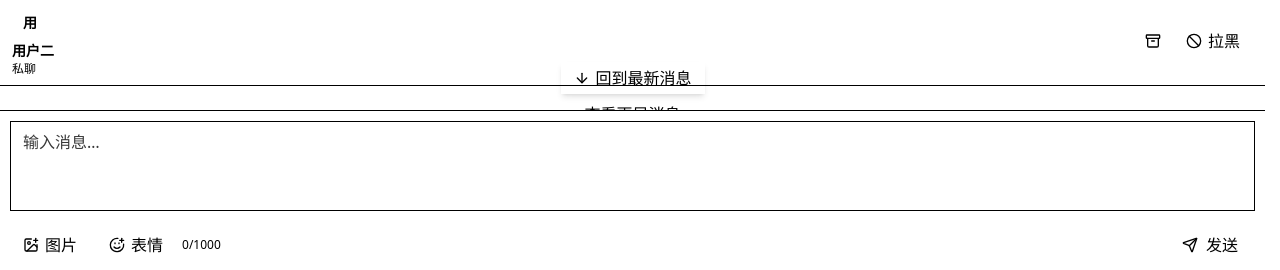
DirectConversationPanel › 离开底部时返回入口会刷新并一次定位到最新消息
(page scrolled)
Click the button "回到最新消息". click: click(632, 78)
box: [560,62,704,94]
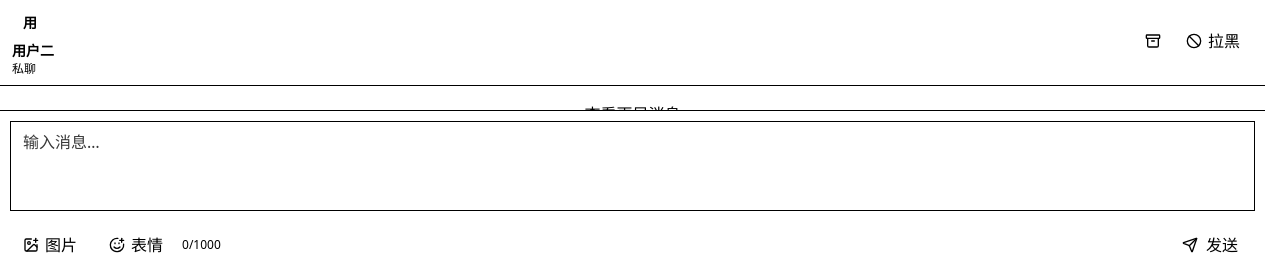
Result: the button "回到最新消息" is gone
